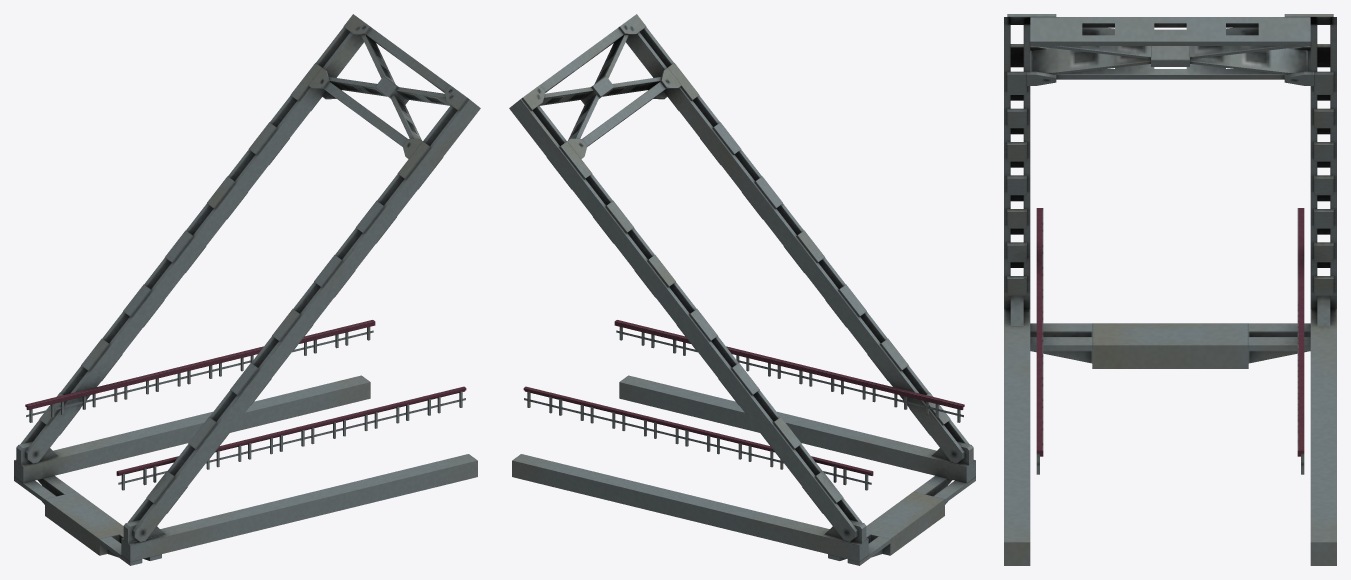
File: mvp_ir_bridge_end.obj
3 views of the same model, side by side, from view 1: azimuth 30°, elevation 25°; view 2: azimuth 150°, elevation 25°; view 3: azimuth 270°, elevation 25° (orthographic). The views are drawn at different scales.
Visible parts, largest first — view 1: RAIL_BASE_mvp_bridge_end; view 2: RAIL_BASE_mvp_bridge_end; view 3: RAIL_BASE_mvp_bridge_end.
Part boxes in pixels (x1,y1,x2,y2): RAIL_BASE_mvp_bridge_end: [14, 14, 480, 565]; RAIL_BASE_mvp_bridge_end: [509, 14, 975, 565]; RAIL_BASE_mvp_bridge_end: [1004, 14, 1336, 565].
Bounding box in the file's own units: 11.1 × 12.03 × 6.38.
Materials: 1 (1 with a texture image).
